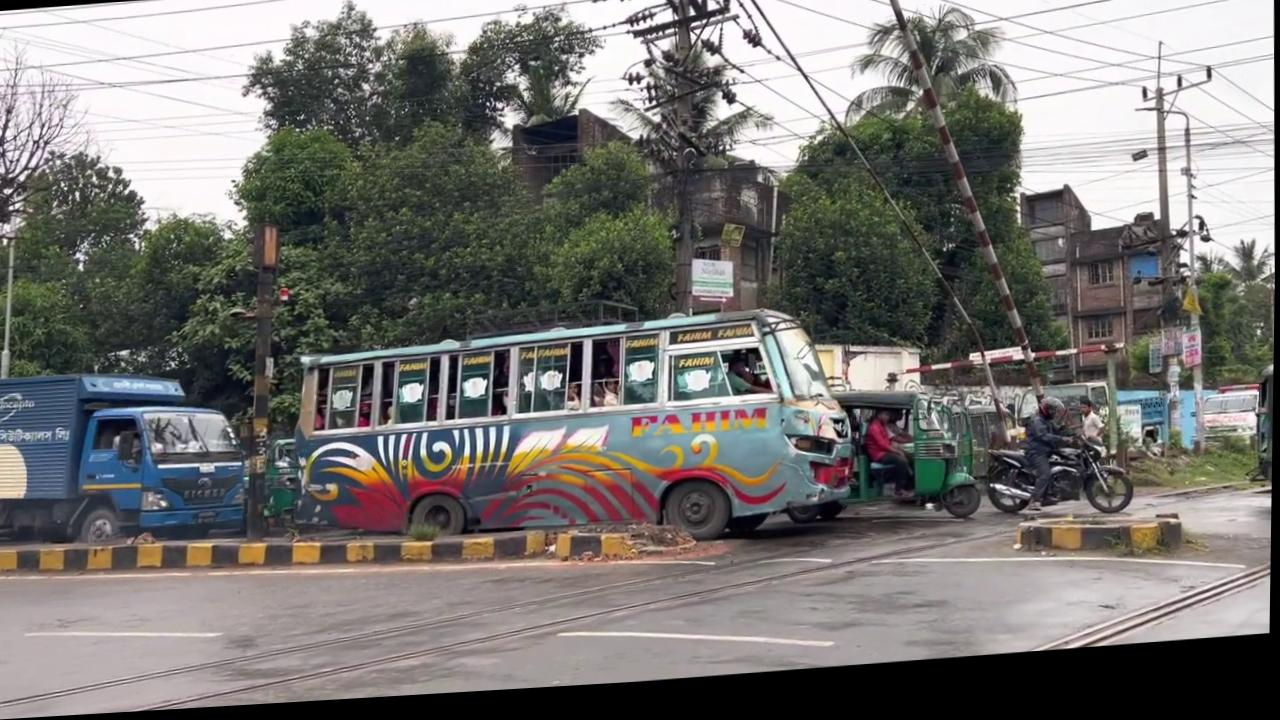Car: (0, 501, 700, 613)
Curb: (785, 390, 984, 542), (984, 427, 1136, 535)
Fence: (1023, 407, 1078, 526), (864, 417, 918, 512), (1079, 409, 1110, 480)
Garbage: (863, 0, 1052, 428), (240, 224, 286, 546), (0, 212, 22, 378)
Rickshaw: (289, 308, 861, 575), (0, 361, 250, 553), (1246, 378, 1275, 500)
